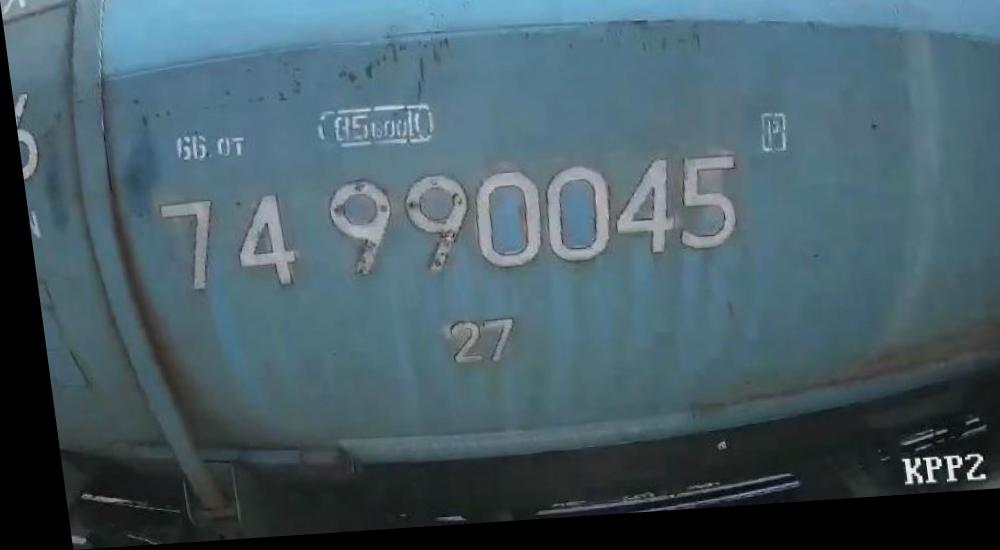Wagon-number: (144, 160, 748, 302)
